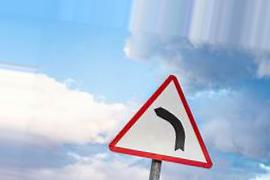left: (107, 73, 216, 166)
